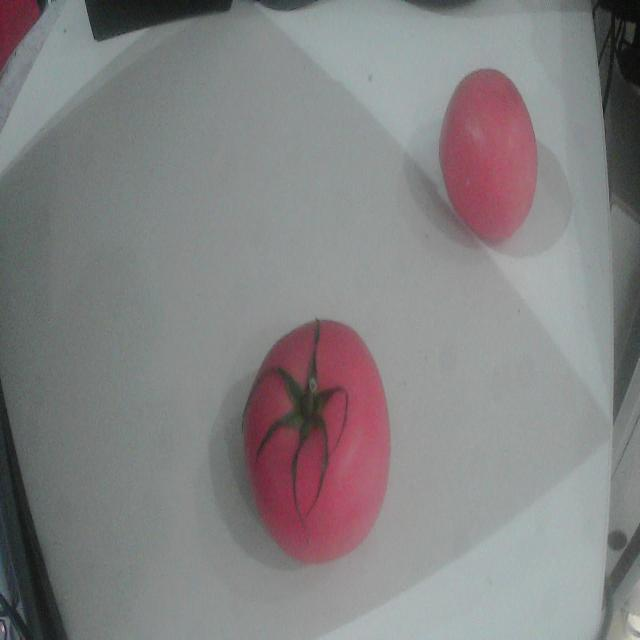Tomato: (244, 320, 390, 563), (439, 71, 537, 244)
